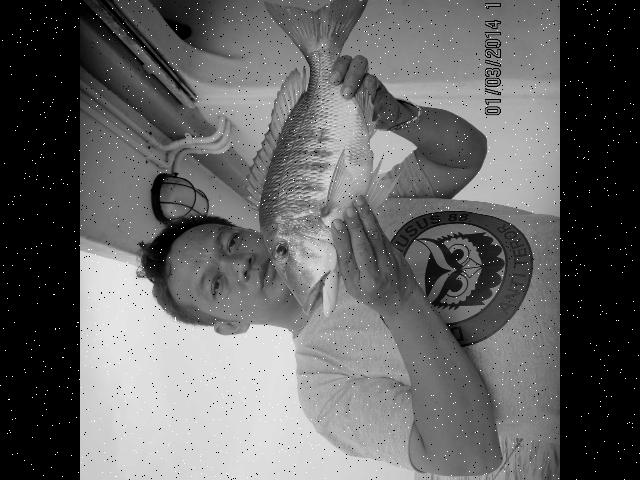Mulut: (294, 269, 350, 328)
Sirip Anal: (350, 78, 386, 144)
Sirip Dada: (315, 138, 369, 222)
Sirip Ekor: (252, 0, 379, 63)
Sirip Perut: (356, 147, 416, 219)
Sirip Punggung: (242, 60, 316, 216)
